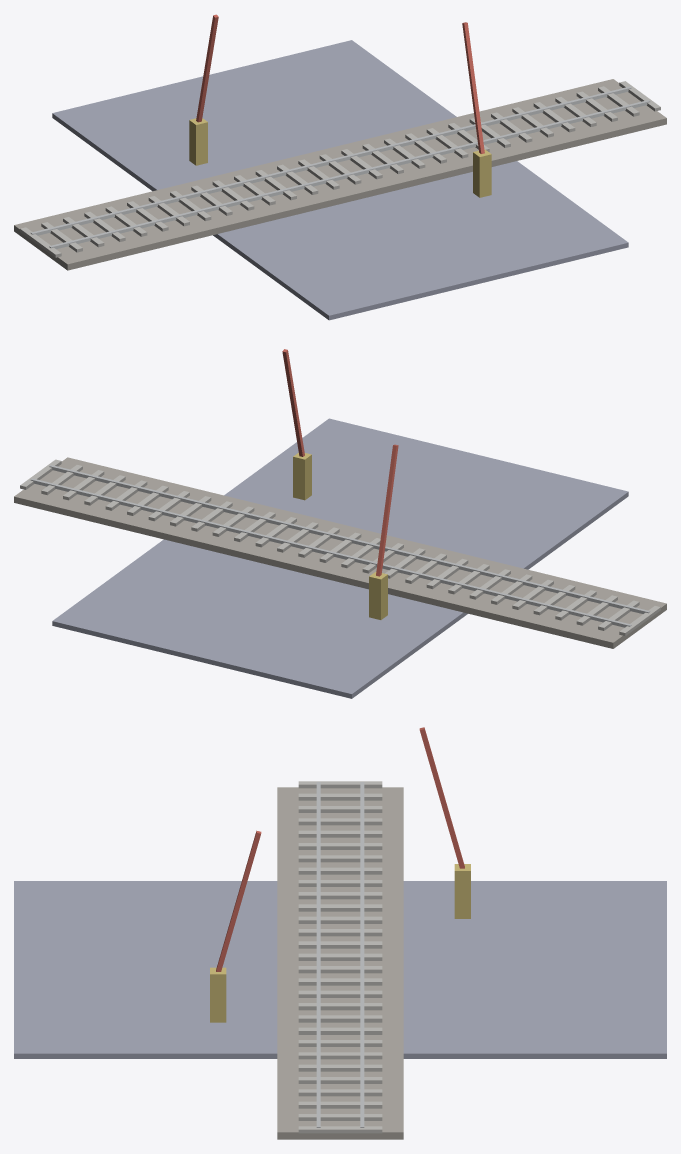
Rendered from 04_tracks_props_4x3-08.glb.
3 renders of one model, top to bottom at view 1: azimuth 30°, elevation 25°; view 2: azimuth 150°, elevation 25°; view 3: azimuth 270°, elevation 25°, orthographic. The views are drawn at different scales.
Bounding box in the file's own units: 20.2 × 5.22 × 16.
